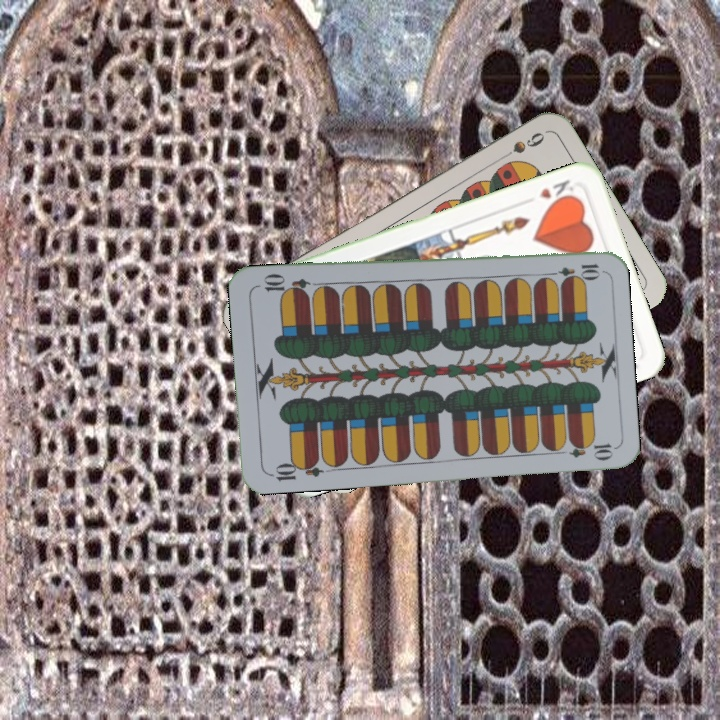E10: (265, 455, 325, 484), (543, 259, 602, 280)
HK: (535, 175, 578, 208)
S9: (505, 128, 548, 157)
